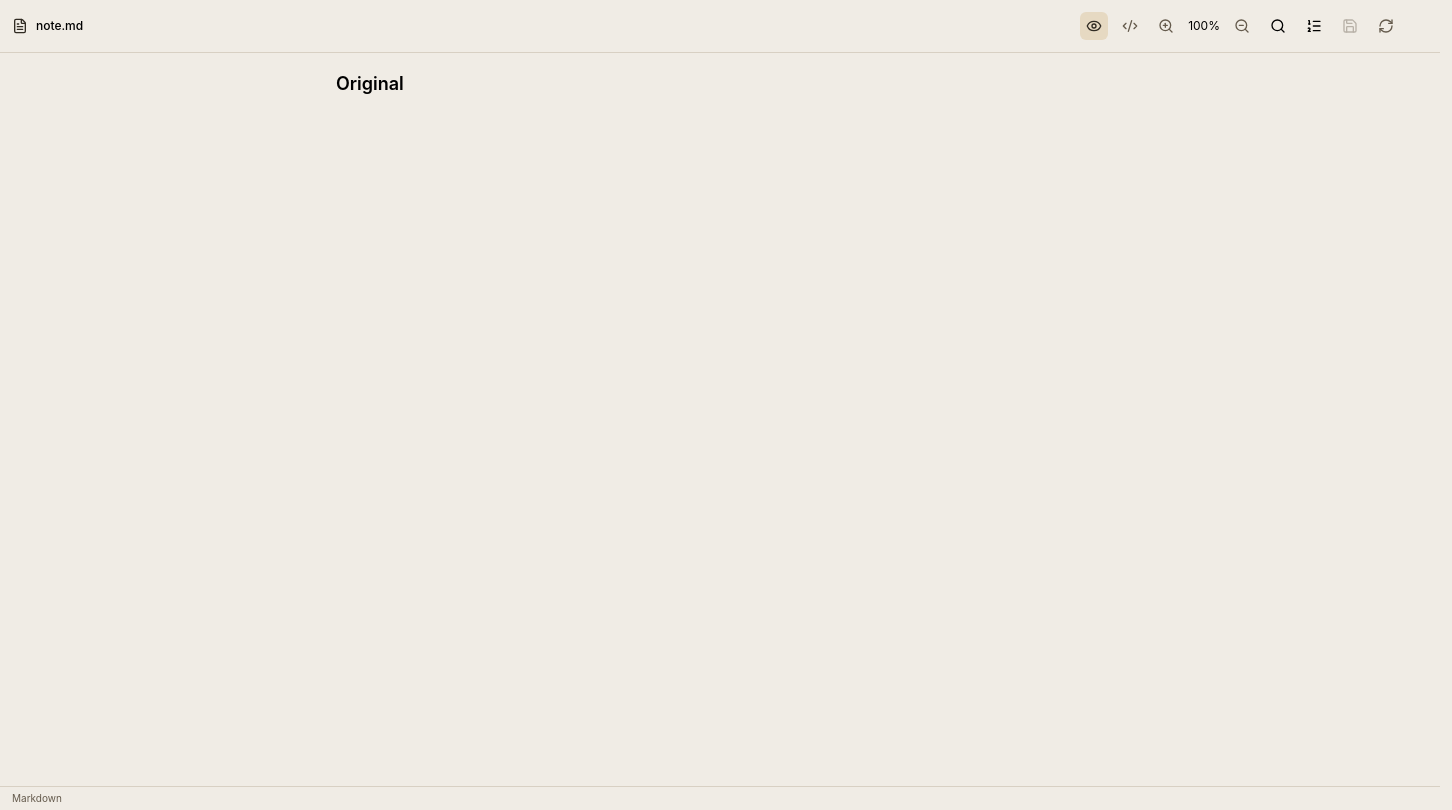
Markdown editor › saves explicitly with the original content and previews the draft
expect the heading "Original" is shown: met, box [336, 73, 404, 94]
Click the button named "Edit". click: (1130, 26)
box: [1116, 12, 1144, 40]
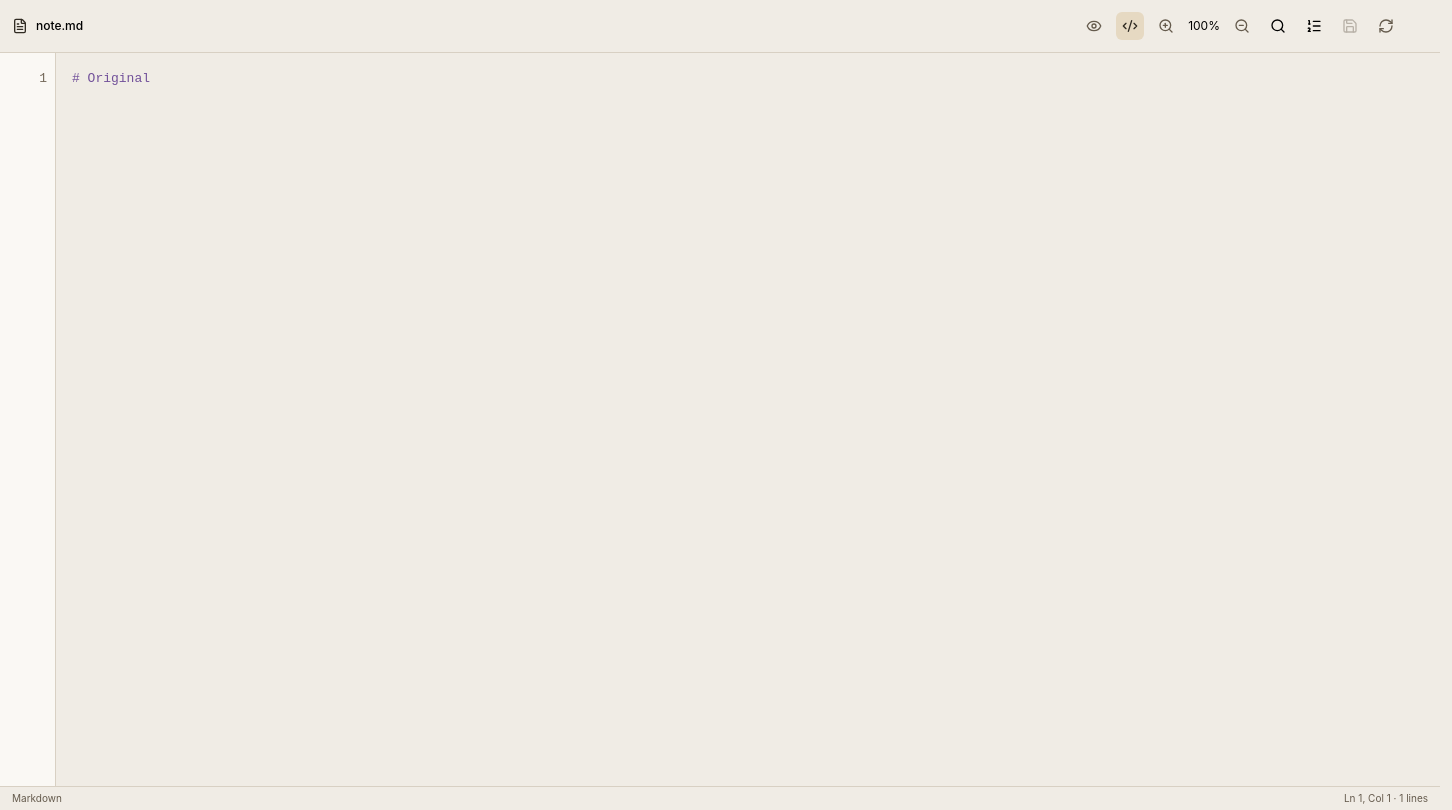
Replace the text in the text box with "# Changed". click: (748, 420)
box: [56, 53, 1440, 786]
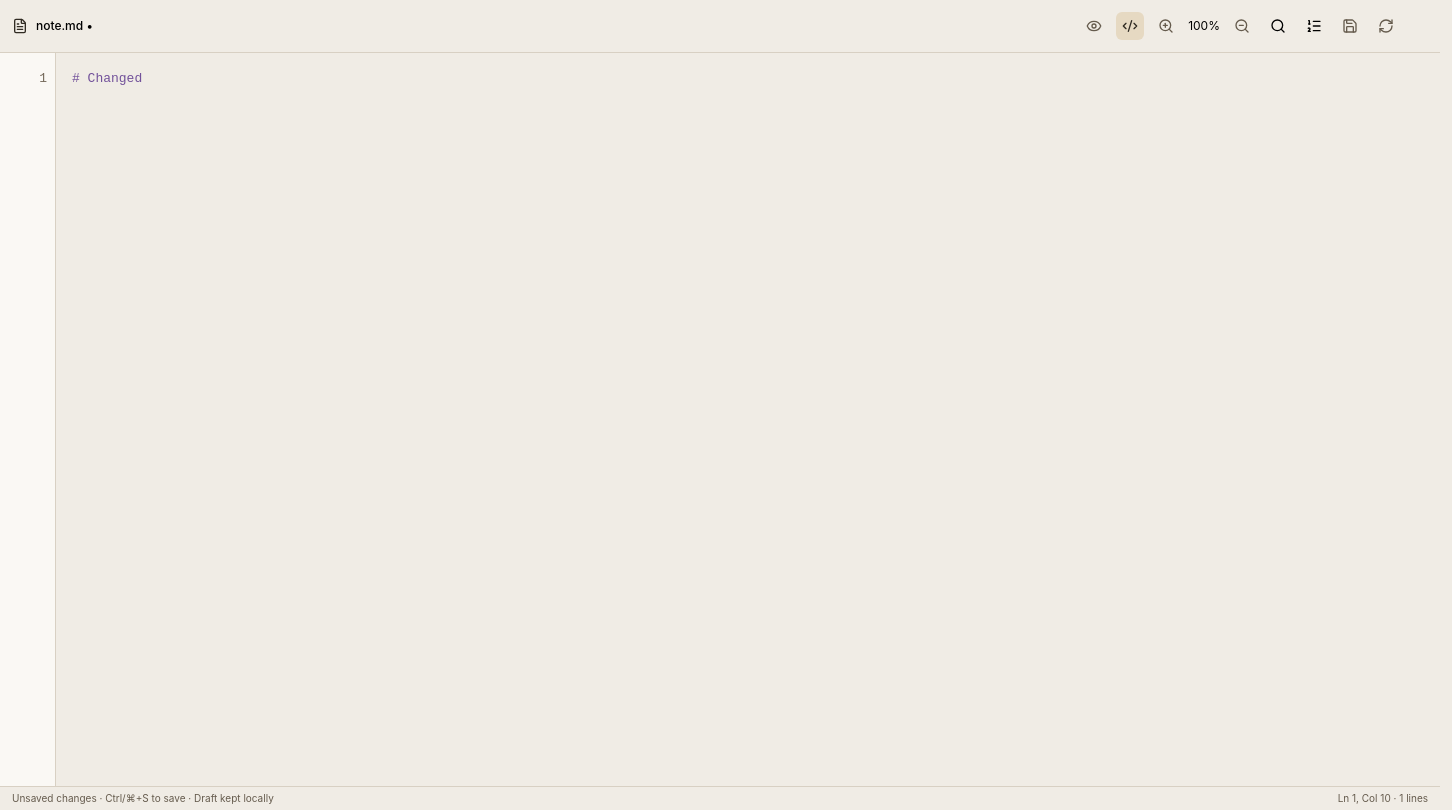
Click the button named "Preview". click: (1094, 26)
box: [1080, 12, 1108, 40]
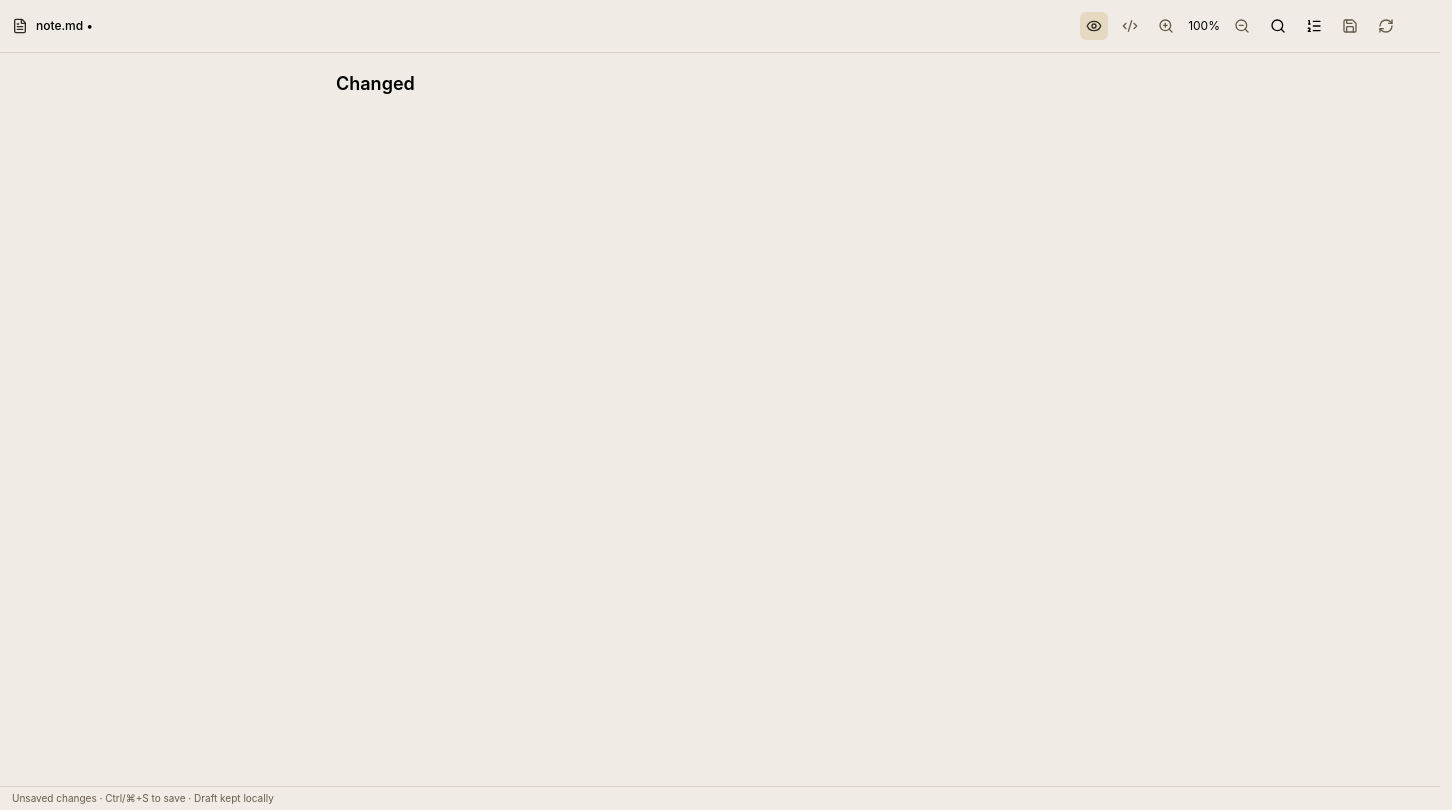
expect the heading "Changed" is shown: met, box [336, 73, 415, 94]
Click the button named "Save". click: (1350, 26)
box: [1336, 12, 1364, 40]
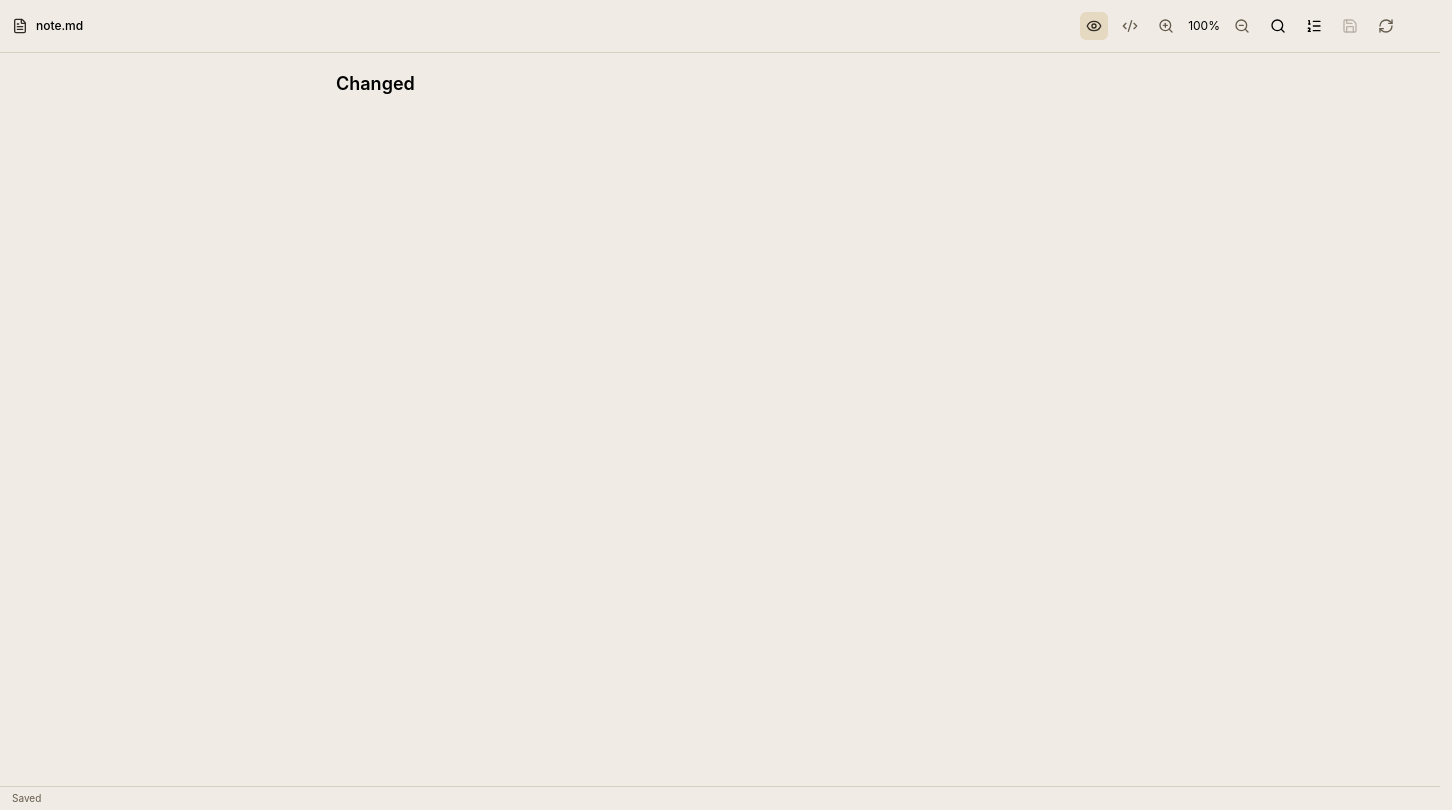
expect the message reads "Saved": met, box [12, 792, 41, 804]
